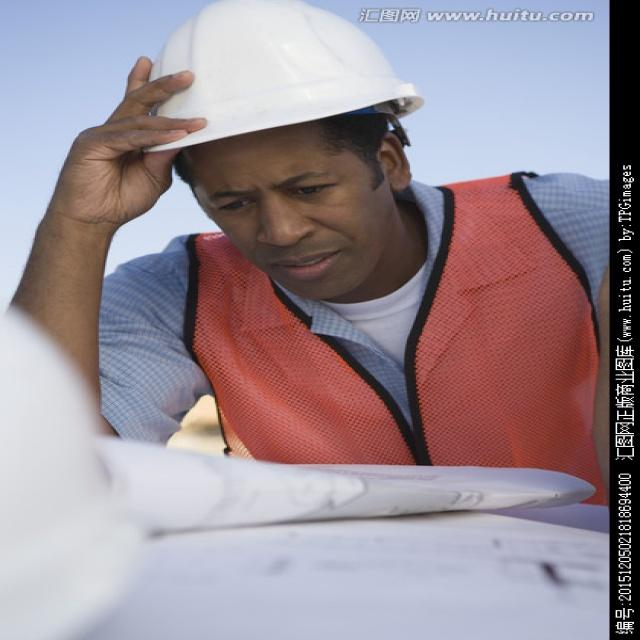helmet: (135, 3, 430, 404)
vest: (188, 258, 578, 618)
